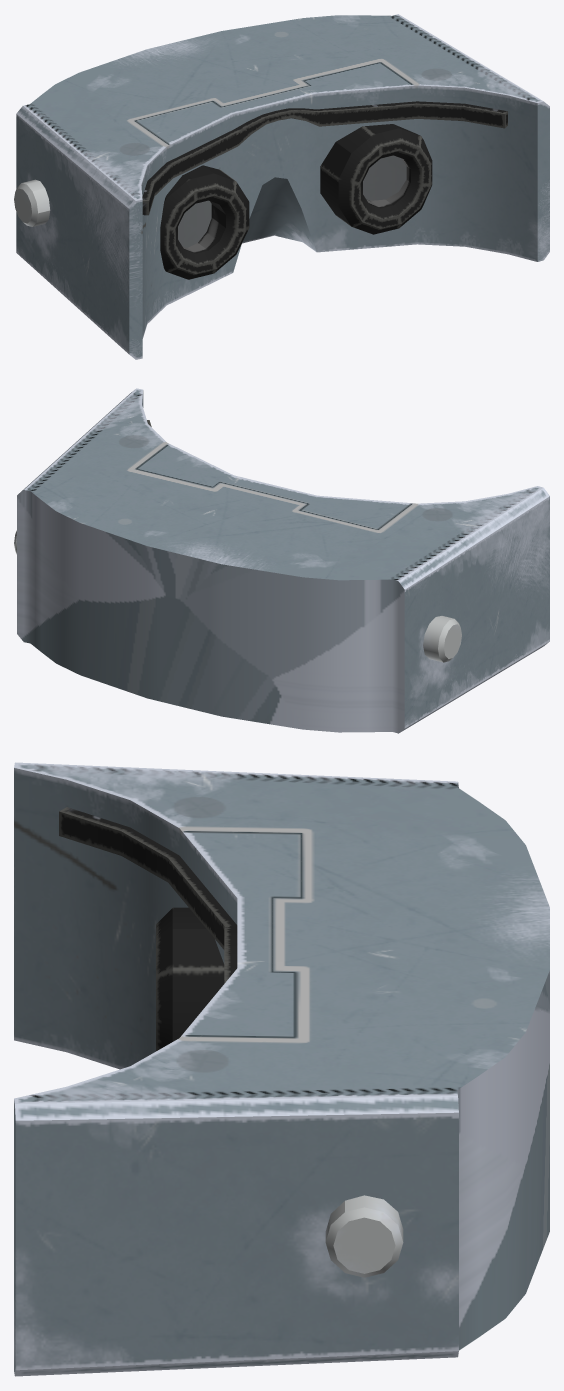
Rendered from Telesphere_Mask_part2.gltf.
3 views of the same model, one above another, from view 1: azimuth 30°, elevation 25°; view 2: azimuth 150°, elevation 25°; view 3: azimuth 270°, elevation 25° (orthographic). The views are drawn at different scales.
Parts seen in each view (by area): view 1: polySurface3.001; view 2: polySurface3.001; view 3: polySurface3.001.
Part boxes in pixels (bbox=[...]): polySurface3.001: bbox=[14, 14, 549, 359]; polySurface3.001: bbox=[14, 388, 549, 733]; polySurface3.001: bbox=[14, 762, 549, 1376].
Size of the model in its own units: 0.4841 by 0.1707 by 0.3043.
Materials: 1 (1 with a texture image).
